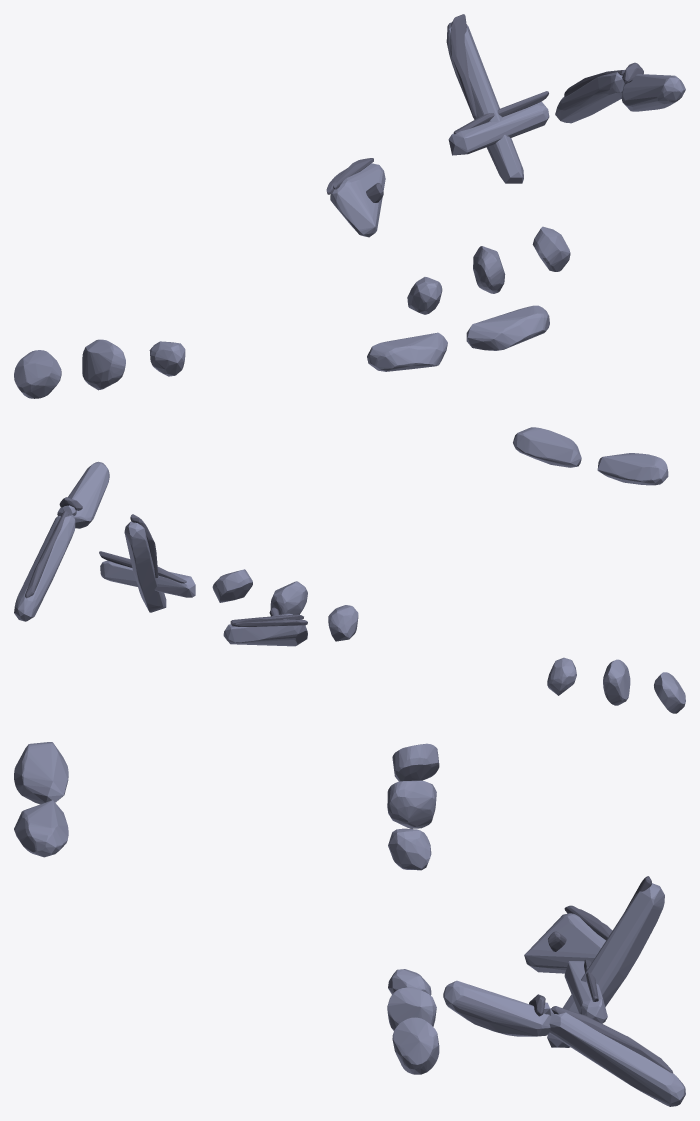
File: balls.glb
The picture shows the model from 3 angles, top to bottom: view 1: azimuth 30°, elevation 25°; view 2: azimuth 150°, elevation 25°; view 3: azimuth 270°, elevation 25°; orthographic projection. The views are drawn at different scales.
Parts seen in each view (by area): view 1: brush_UnlitHull_g0_b0; view 2: brush_UnlitHull_g0_b0; view 3: brush_UnlitHull_g0_b0.
Boxes of the visible parts, x1,y1,x2,y2 form: brush_UnlitHull_g0_b0: (14, 14, 685, 398); brush_UnlitHull_g0_b0: (14, 427, 685, 713); brush_UnlitHull_g0_b0: (14, 742, 685, 1106).
Bounding box in the file's own units: 1.83 × 0.4791 × 1.39.
